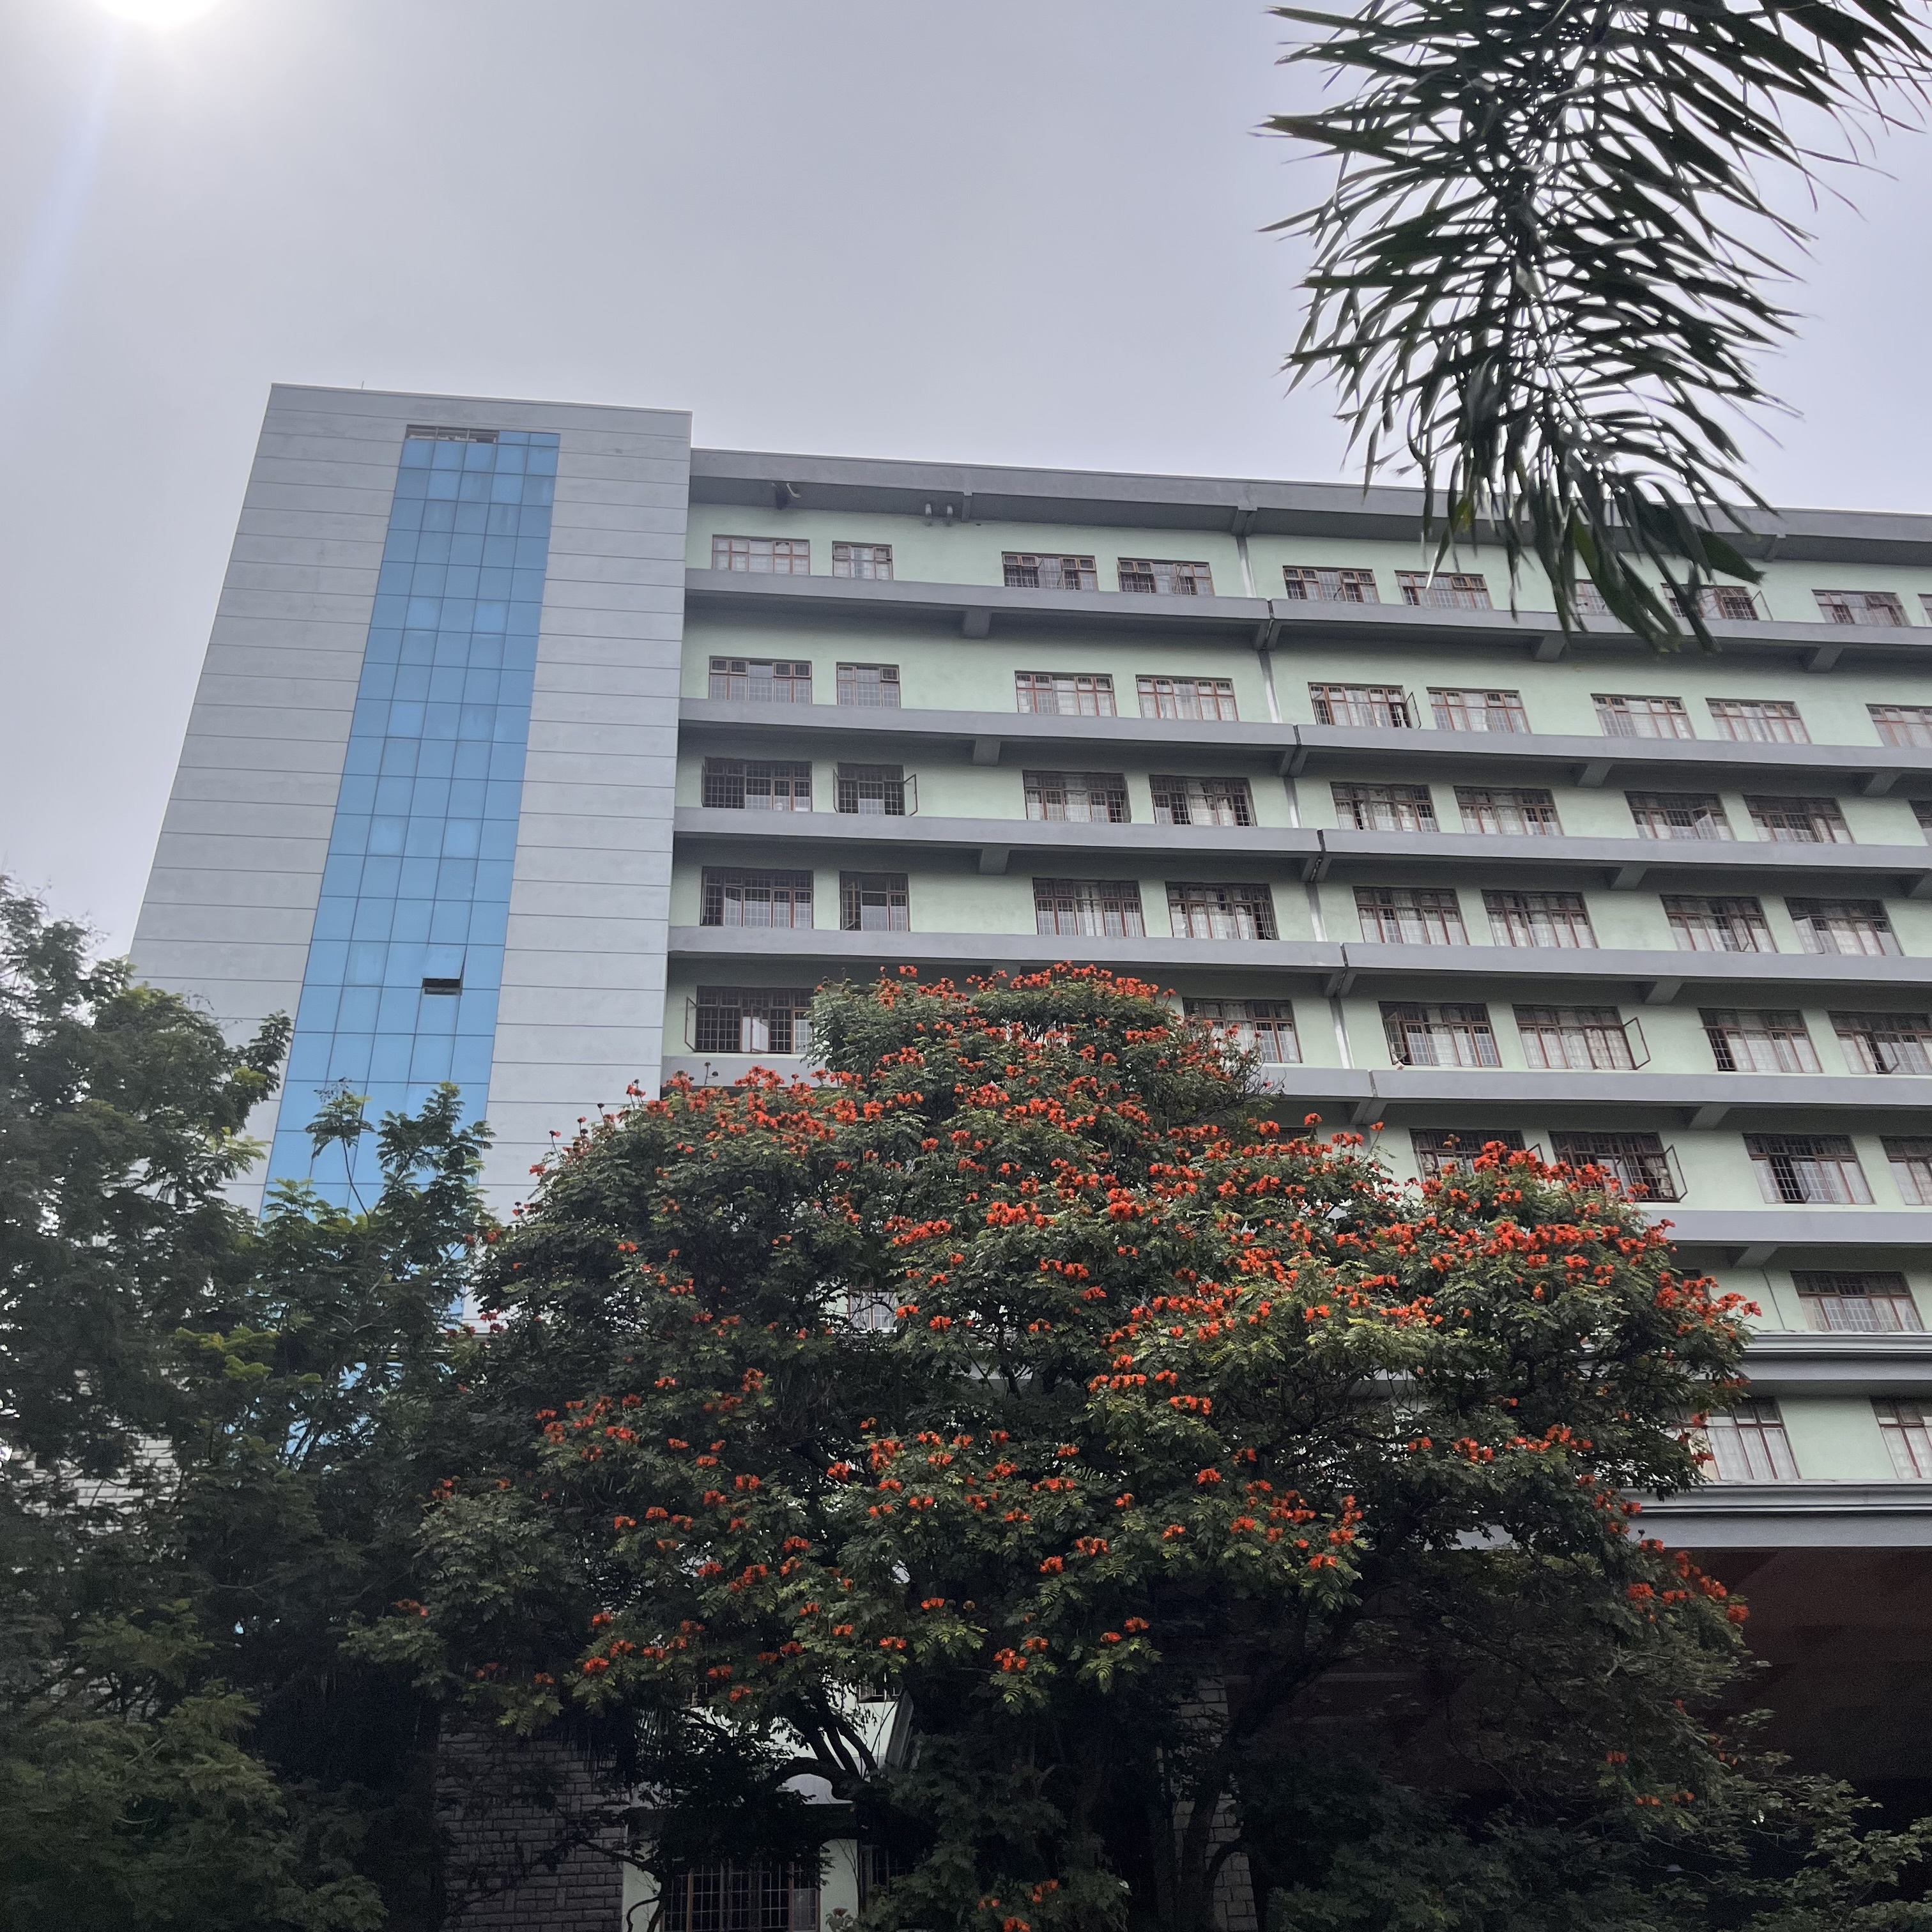Central Block: (150, 382, 1932, 1603)
